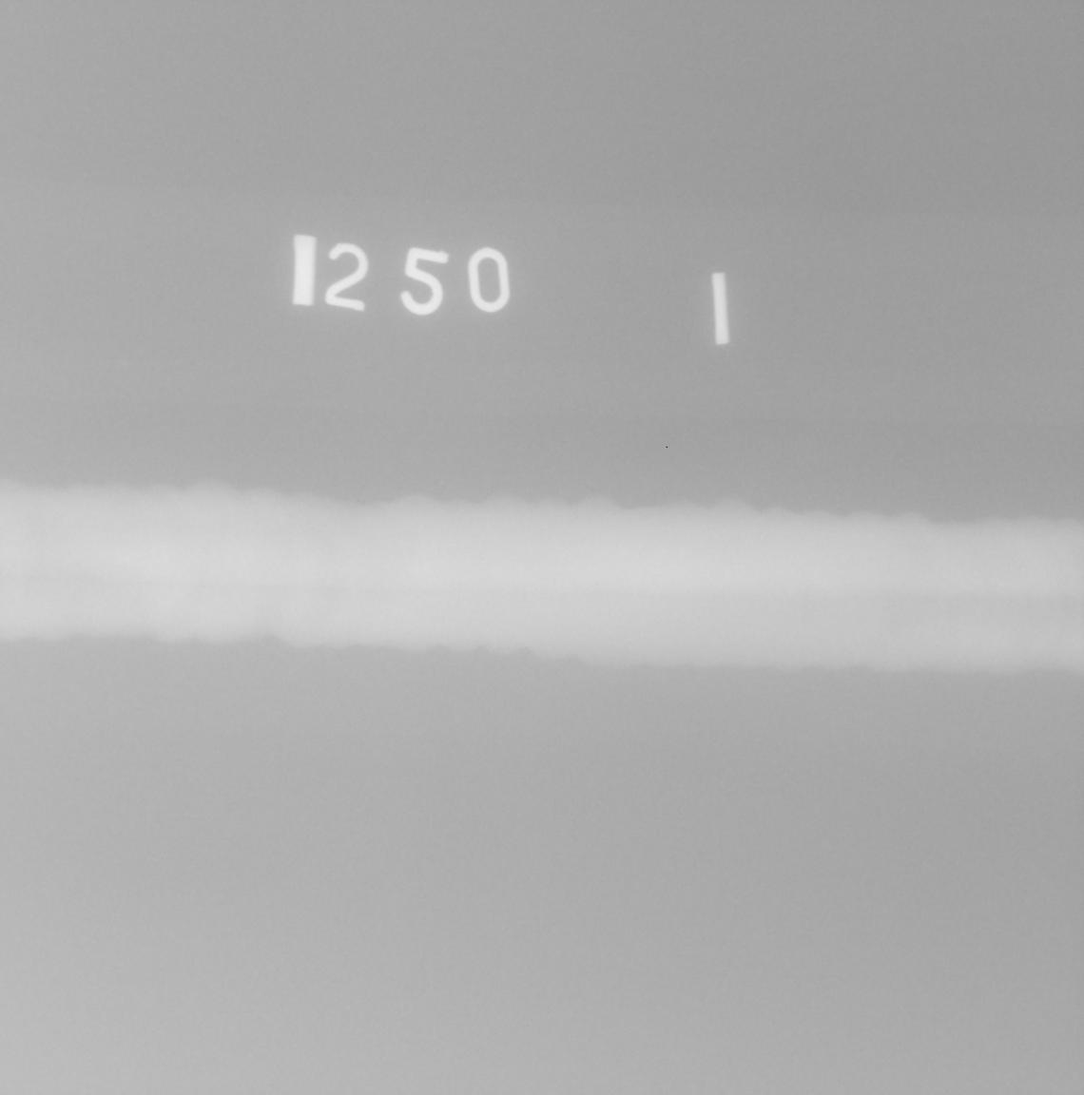Inclusion: (89, 616, 92, 619)
